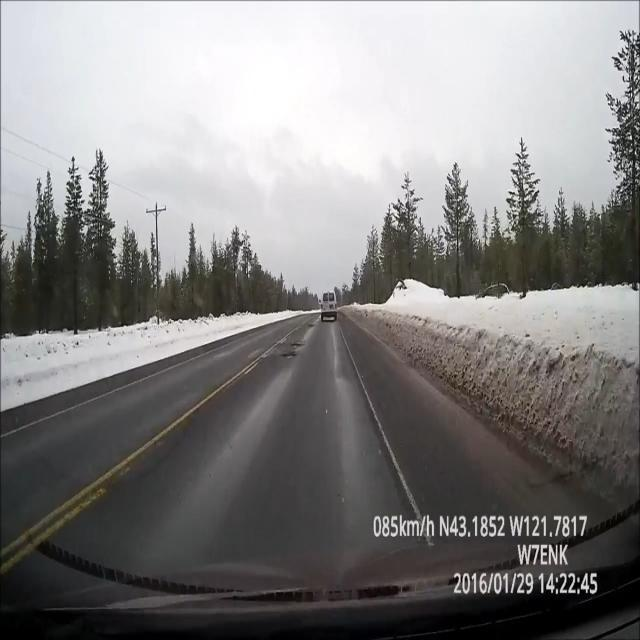Buraco: (278, 350, 299, 360), (288, 342, 306, 350)
